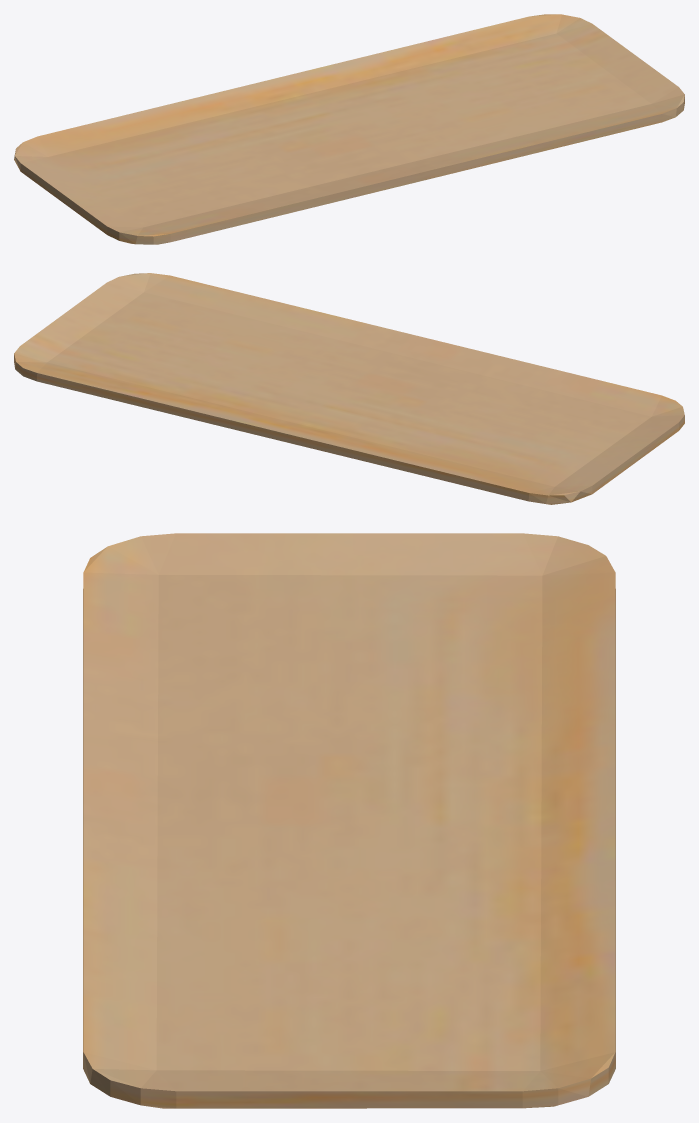
Rendered from tray2.dae.
The picture shows the model from 3 angles, top to bottom: view 1: azimuth 30°, elevation 25°; view 2: azimuth 150°, elevation 25°; view 3: azimuth 270°, elevation 25°; orthographic projection. The views are drawn at different scales.
Visible parts, largest first — view 1: node; view 2: node; view 3: node.
Boxes of the visible parts, <box> form: node: <box>14,14,684,244</box>; node: <box>14,273,684,504</box>; node: <box>83,533,615,1108</box>.
Bounding box in the file's own units: 0.724 × 0.0184 × 0.292.
1 material, 1 textured.
